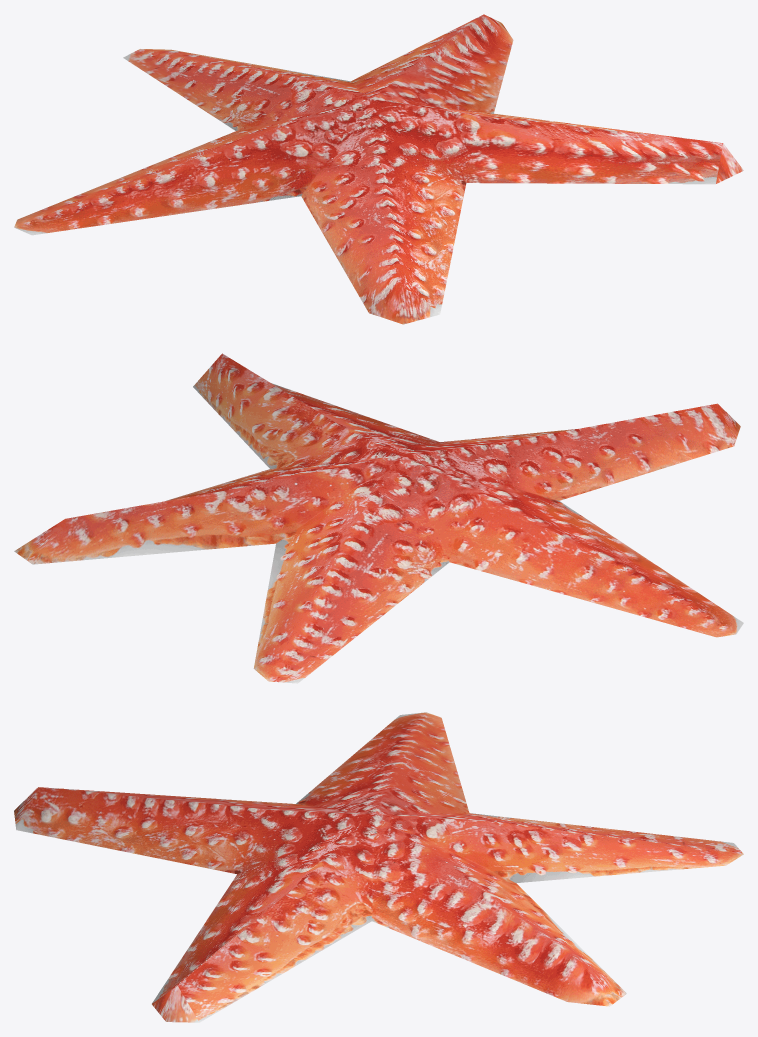
The model's file is Etoile de mer.fbx.
3 renders of one model, top to bottom at view 1: azimuth 30°, elevation 25°; view 2: azimuth 150°, elevation 25°; view 3: azimuth 270°, elevation 25°, orthographic. The views are drawn at different scales.
Parts seen in each view (by area): view 1: Etoile de mer; view 2: Etoile de mer; view 3: Etoile de mer.
Part boxes in pixels (<box>): Etoile de mer: <box>14,14,743,324</box>; Etoile de mer: <box>14,353,743,683</box>; Etoile de mer: <box>14,712,743,1022</box>.
Size of the model in its own units: 7.33 by 0.7457 by 7.28.
